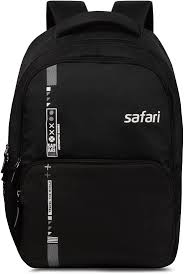backpack: (0, 0, 182, 268)
